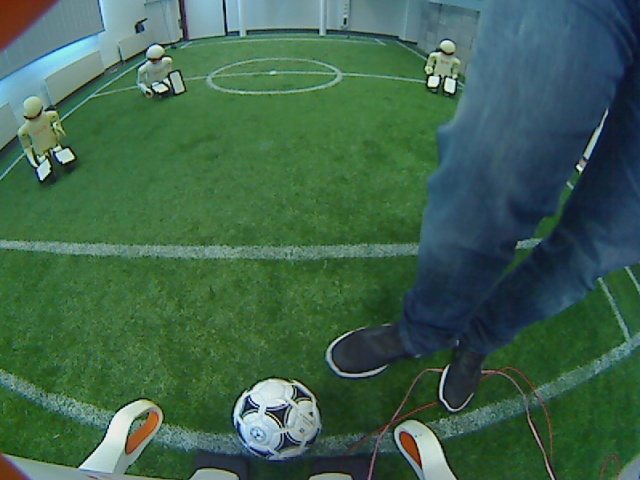ball: (229, 375, 324, 462)
robot: (15, 95, 82, 184), (133, 41, 188, 102), (422, 34, 463, 98)
